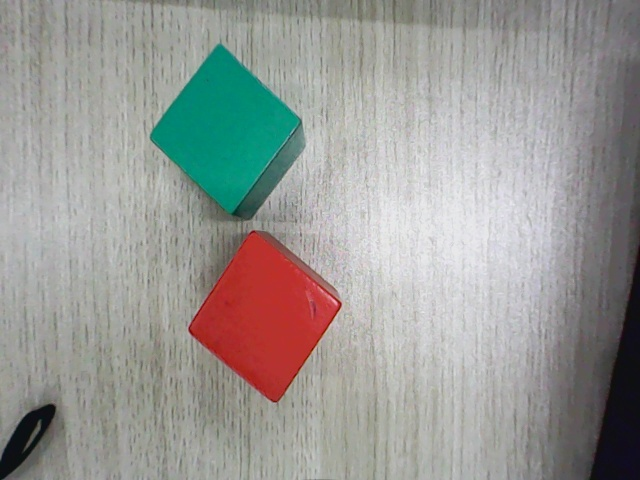upside of big cube: (148, 44, 303, 216), (188, 231, 341, 402)
